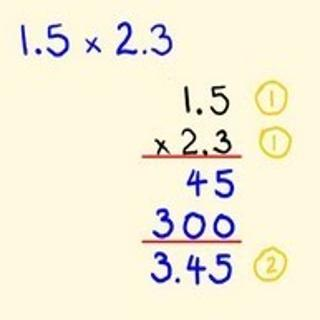.: (32, 43, 44, 59), (138, 44, 148, 58), (195, 104, 205, 117), (200, 145, 210, 155), (174, 275, 181, 285)
0: (180, 209, 207, 239), (212, 212, 237, 238)
1: (14, 20, 29, 60), (179, 78, 193, 118)
2: (107, 18, 140, 58), (174, 126, 199, 155)
3: (145, 16, 177, 59), (142, 250, 175, 287), (144, 206, 176, 239), (214, 125, 232, 155)
4: (184, 253, 207, 290), (186, 165, 209, 200)
5: (208, 164, 238, 203), (43, 19, 71, 60), (204, 250, 235, 286), (205, 78, 231, 120)
